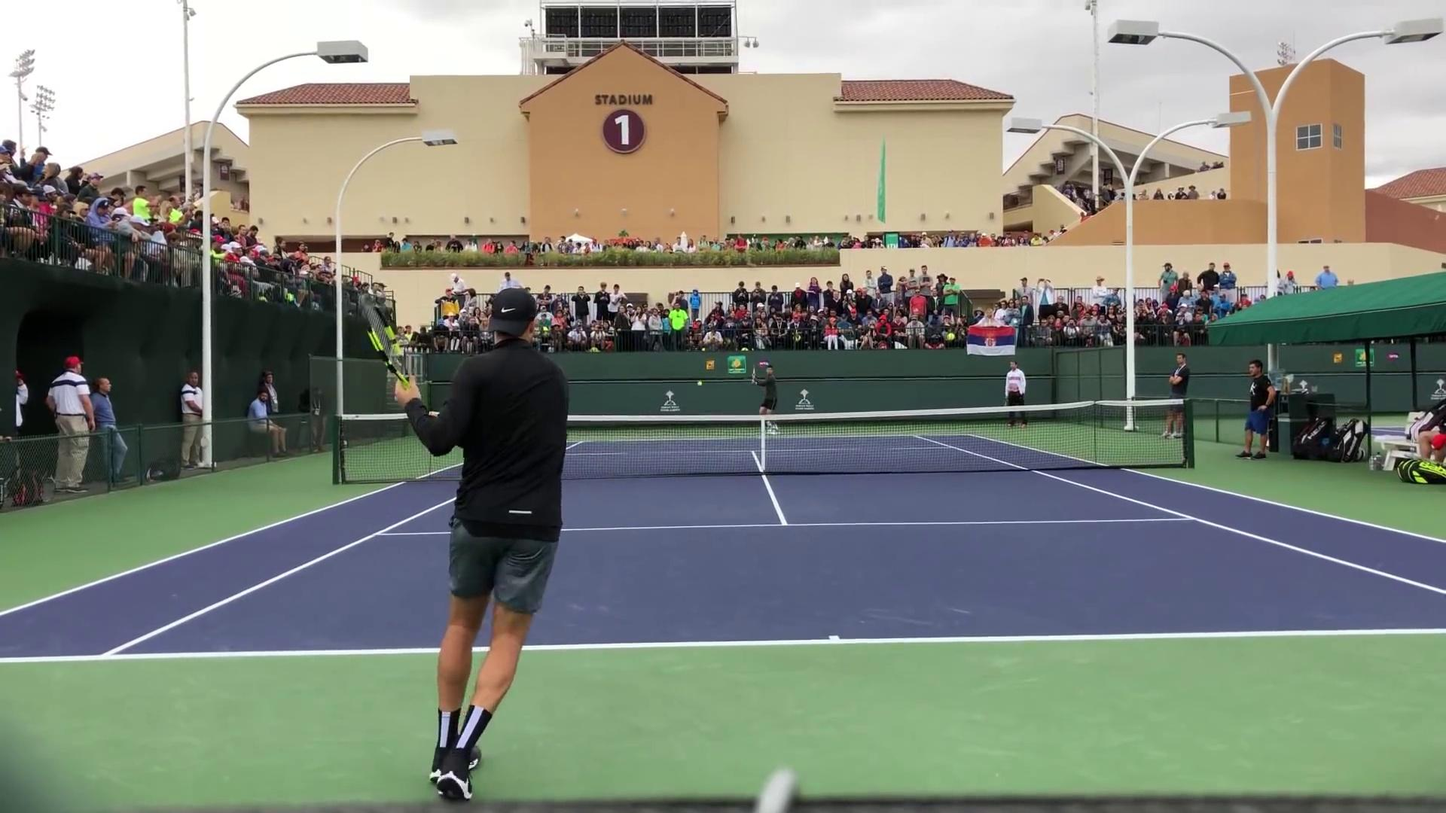ball: (696, 379, 705, 388)
